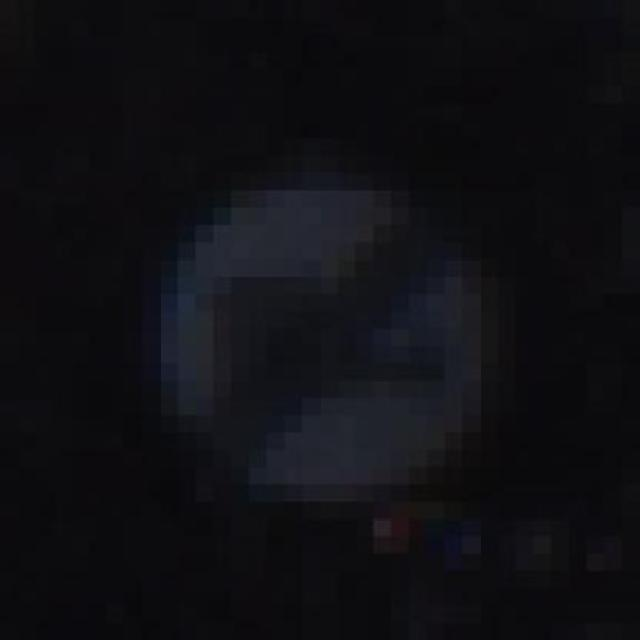Overtaking by trucks is prohibited: (142, 103, 516, 554)
